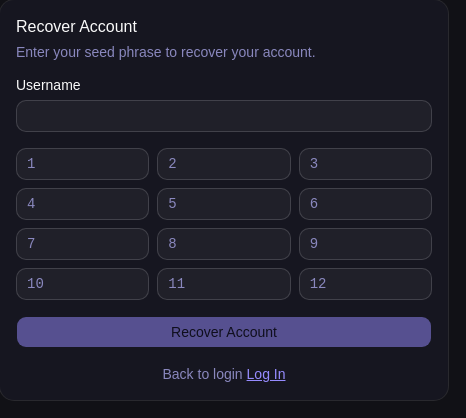
Scenario: RecoverPage › successful validation transitions to step 2
The image size is (466, 418).
In the field labelled "Username": (224, 116) [16,100,432,132], type "testuser"
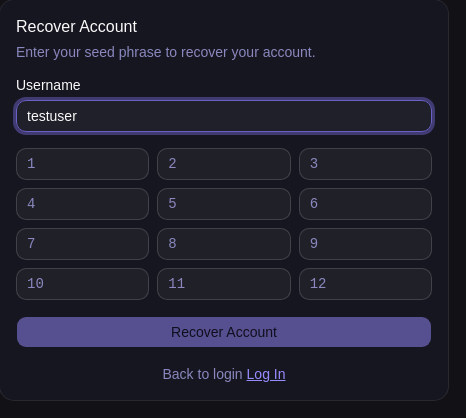
Click the field with placeholder "1": (83, 164) [16,148,149,180]
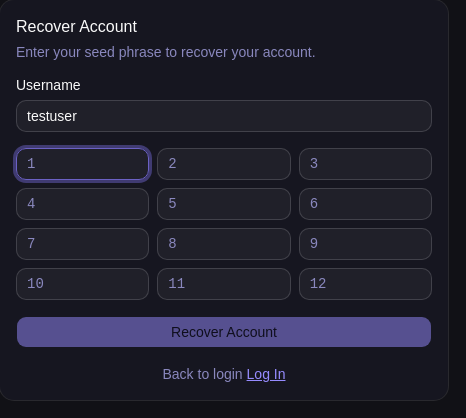
Type keys "abandon ability able about above absent absorb abstract absurd abuse access accident"
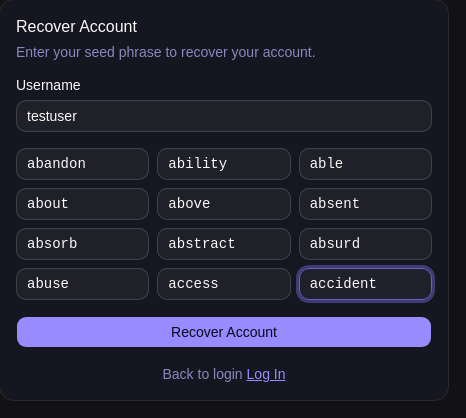
Result: the button "Recover Account" is enabled
Click the button "Recover Account": (224, 332) [16,316,432,348]
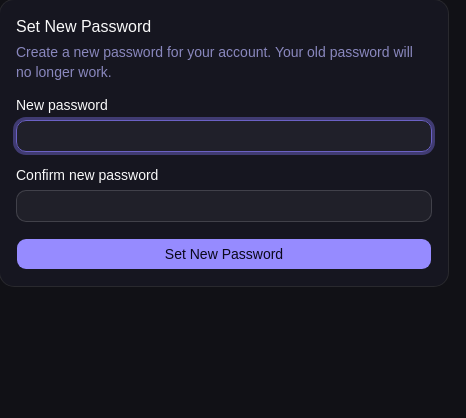
Result: the text "Create a new password" is shown at [16,44,413,80]
Result: the password field labelled "New password" is shown at [16,120,432,152]
Result: the password field labelled "Confirm new password" is shown at [16,190,432,222]
